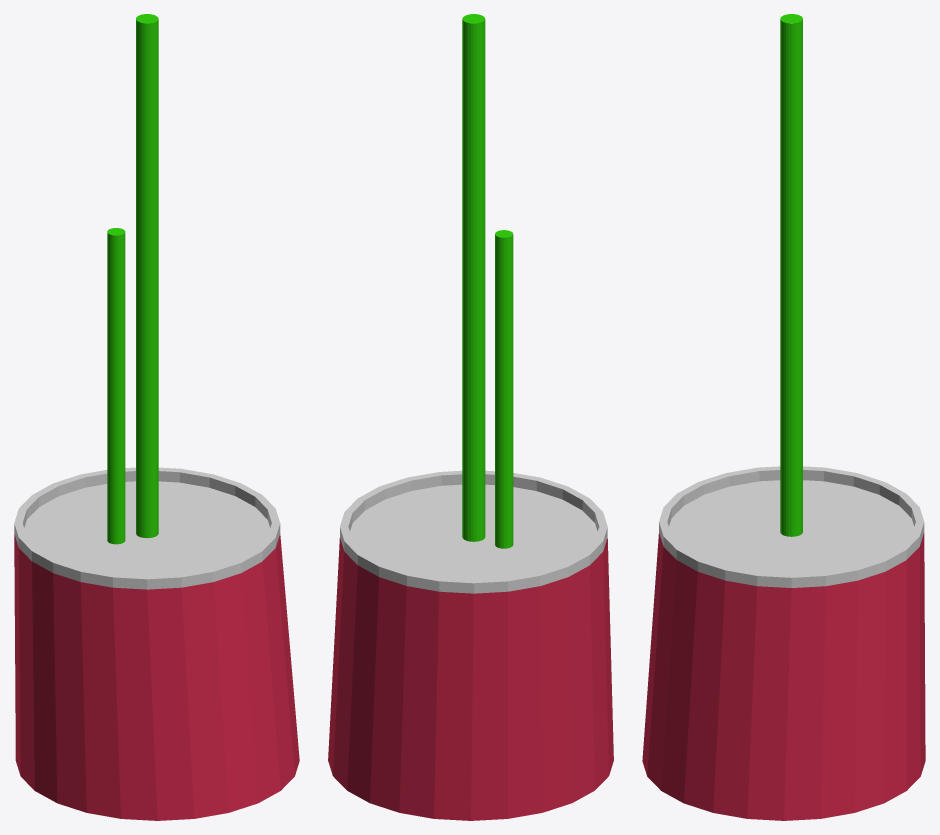
Rendered from concrete stand2.fbx.
The picture shows the model from 3 angles, left to right: view 1: azimuth 30°, elevation 25°; view 2: azimuth 150°, elevation 25°; view 3: azimuth 270°, elevation 25°; orthographic projection.
Parts seen in each view (by area): view 1: Group#201-Entity884242; view 2: Group#201-Entity884242; view 3: Group#201-Entity884242.
Boxes of the visible parts, <box> form: Group#201-Entity884242: <box>14,14,299,820</box>; Group#201-Entity884242: <box>328,14,613,820</box>; Group#201-Entity884242: <box>642,14,925,820</box>.
Size of the model in its own units: 25 by 72 by 25.
